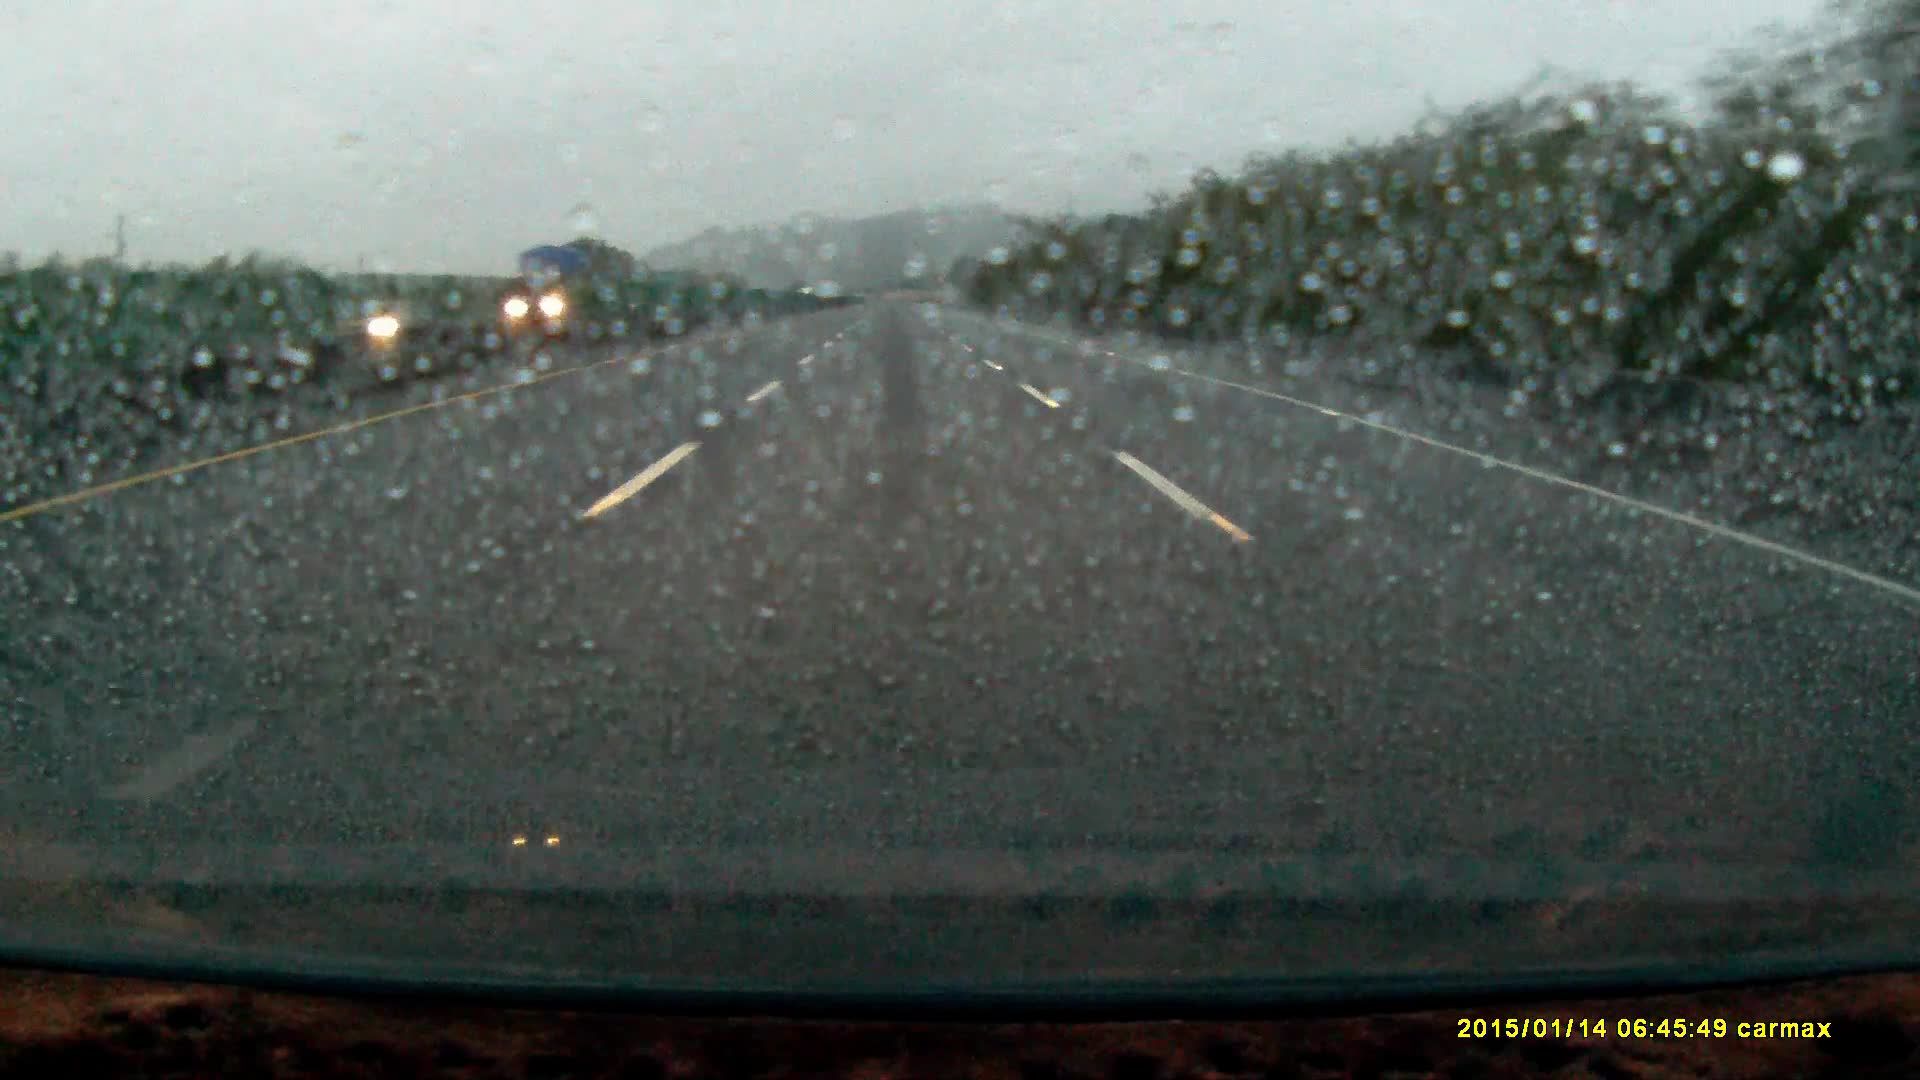vehicle: (509, 243, 626, 334), (338, 301, 434, 338)
